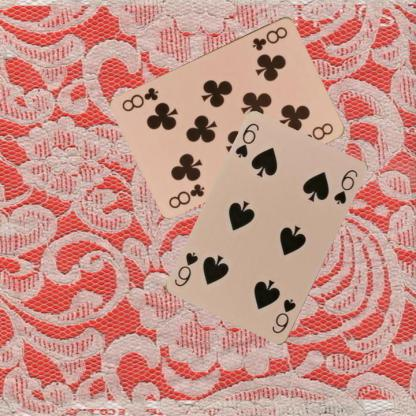6s: (269, 296, 298, 336), (232, 121, 261, 160)
8c: (166, 181, 206, 210), (249, 24, 289, 52)
